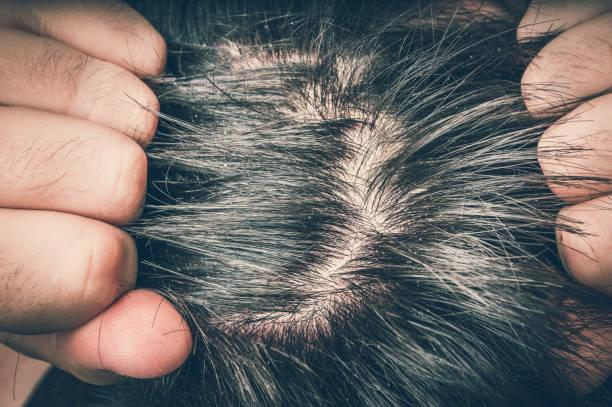dandruff: (286, 16, 299, 29), (190, 111, 200, 122), (262, 21, 271, 32), (426, 216, 435, 226), (466, 50, 474, 61), (376, 341, 382, 352), (306, 214, 314, 222), (492, 45, 501, 51), (419, 236, 423, 241)
